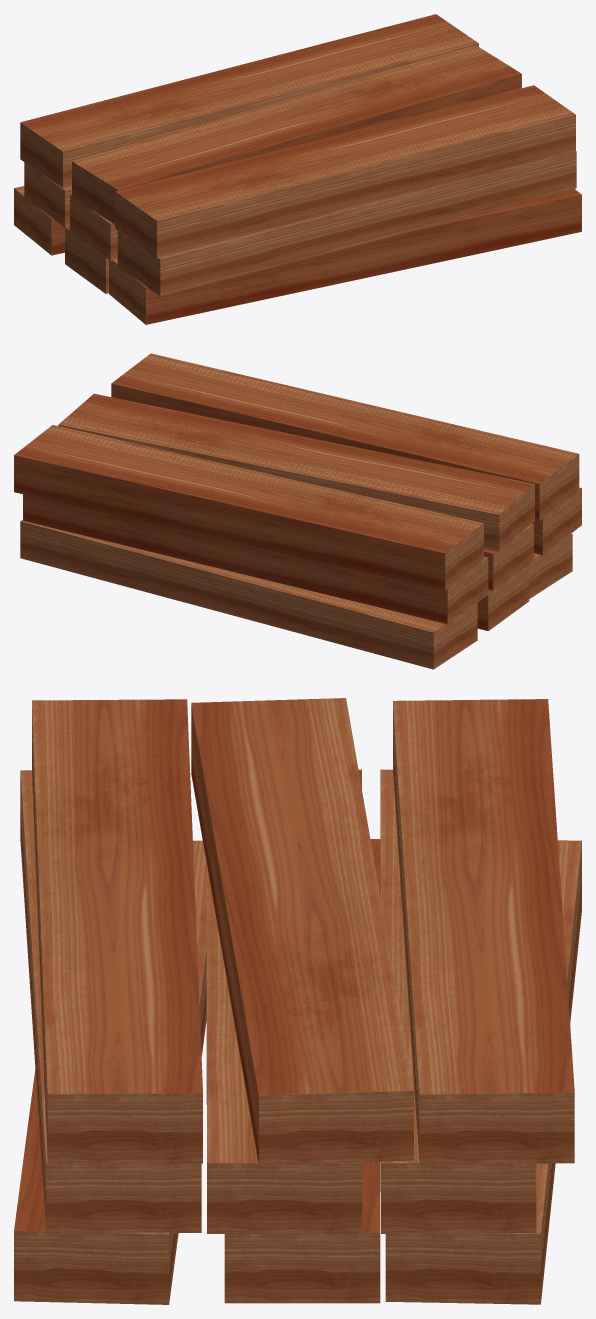
File: plankPile1.fbx
3 renders of one model, top to bottom at view 1: azimuth 30°, elevation 25°; view 2: azimuth 150°, elevation 25°; view 3: azimuth 270°, elevation 25°, orthographic. The views are drawn at different scales.
Visible parts, largest first — view 1: plank9; view 2: plank9; view 3: plank9.
Boxes of the visible parts, x1=… form: plank9: x1=14, y1=14, x2=581, y2=324; plank9: x1=14, y1=353, x2=581, y2=669; plank9: x1=14, y1=698, x2=581, y2=1304.
Bounding box in the file's own units: 24.23 × 5.96 × 14.62.
Materials: 1 (1 with a texture image).
